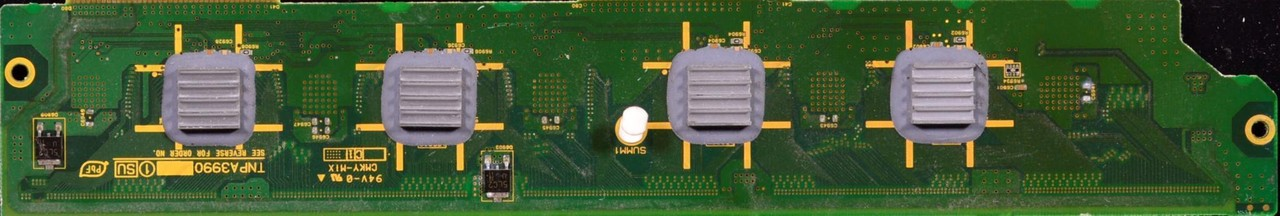Capacitor: (814, 104, 849, 130), (1078, 80, 1099, 110), (78, 104, 98, 130), (536, 114, 565, 131), (307, 124, 332, 139), (925, 37, 949, 50), (307, 114, 334, 125), (1008, 82, 1032, 91), (441, 45, 458, 57), (705, 41, 724, 49), (218, 47, 234, 56)
Resistor: (1001, 57, 1029, 78), (728, 33, 751, 45), (241, 45, 255, 57), (461, 46, 476, 57), (951, 33, 968, 42)
